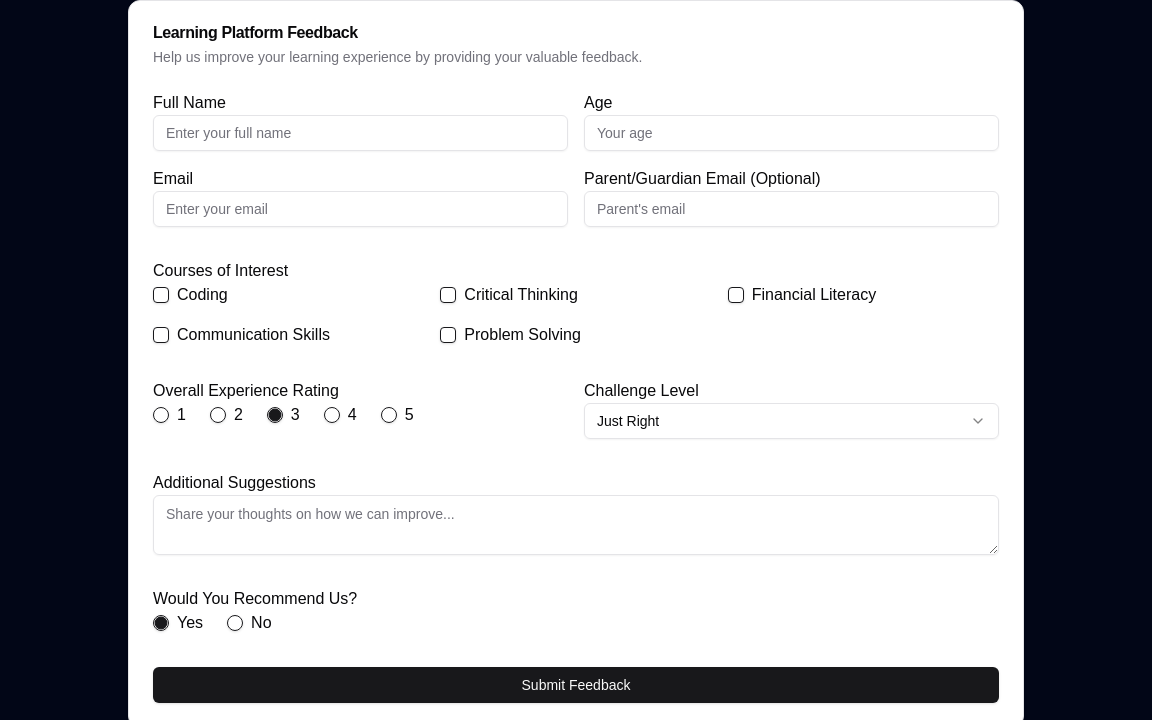
Test: FeedbackForm Component › validates form inputs
Click the button "Submit Feedback" at (576, 685), box [153,667,999,703]
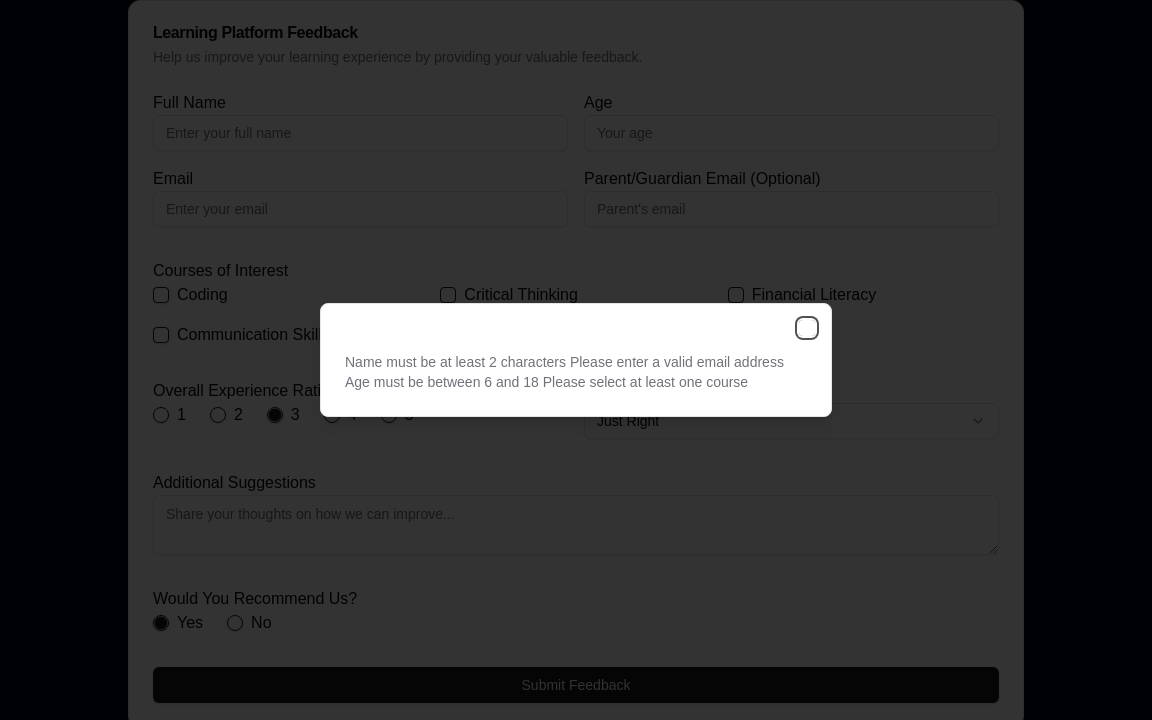
Now the text "Please select at least one course" is shown, box [345,354,784,390]
